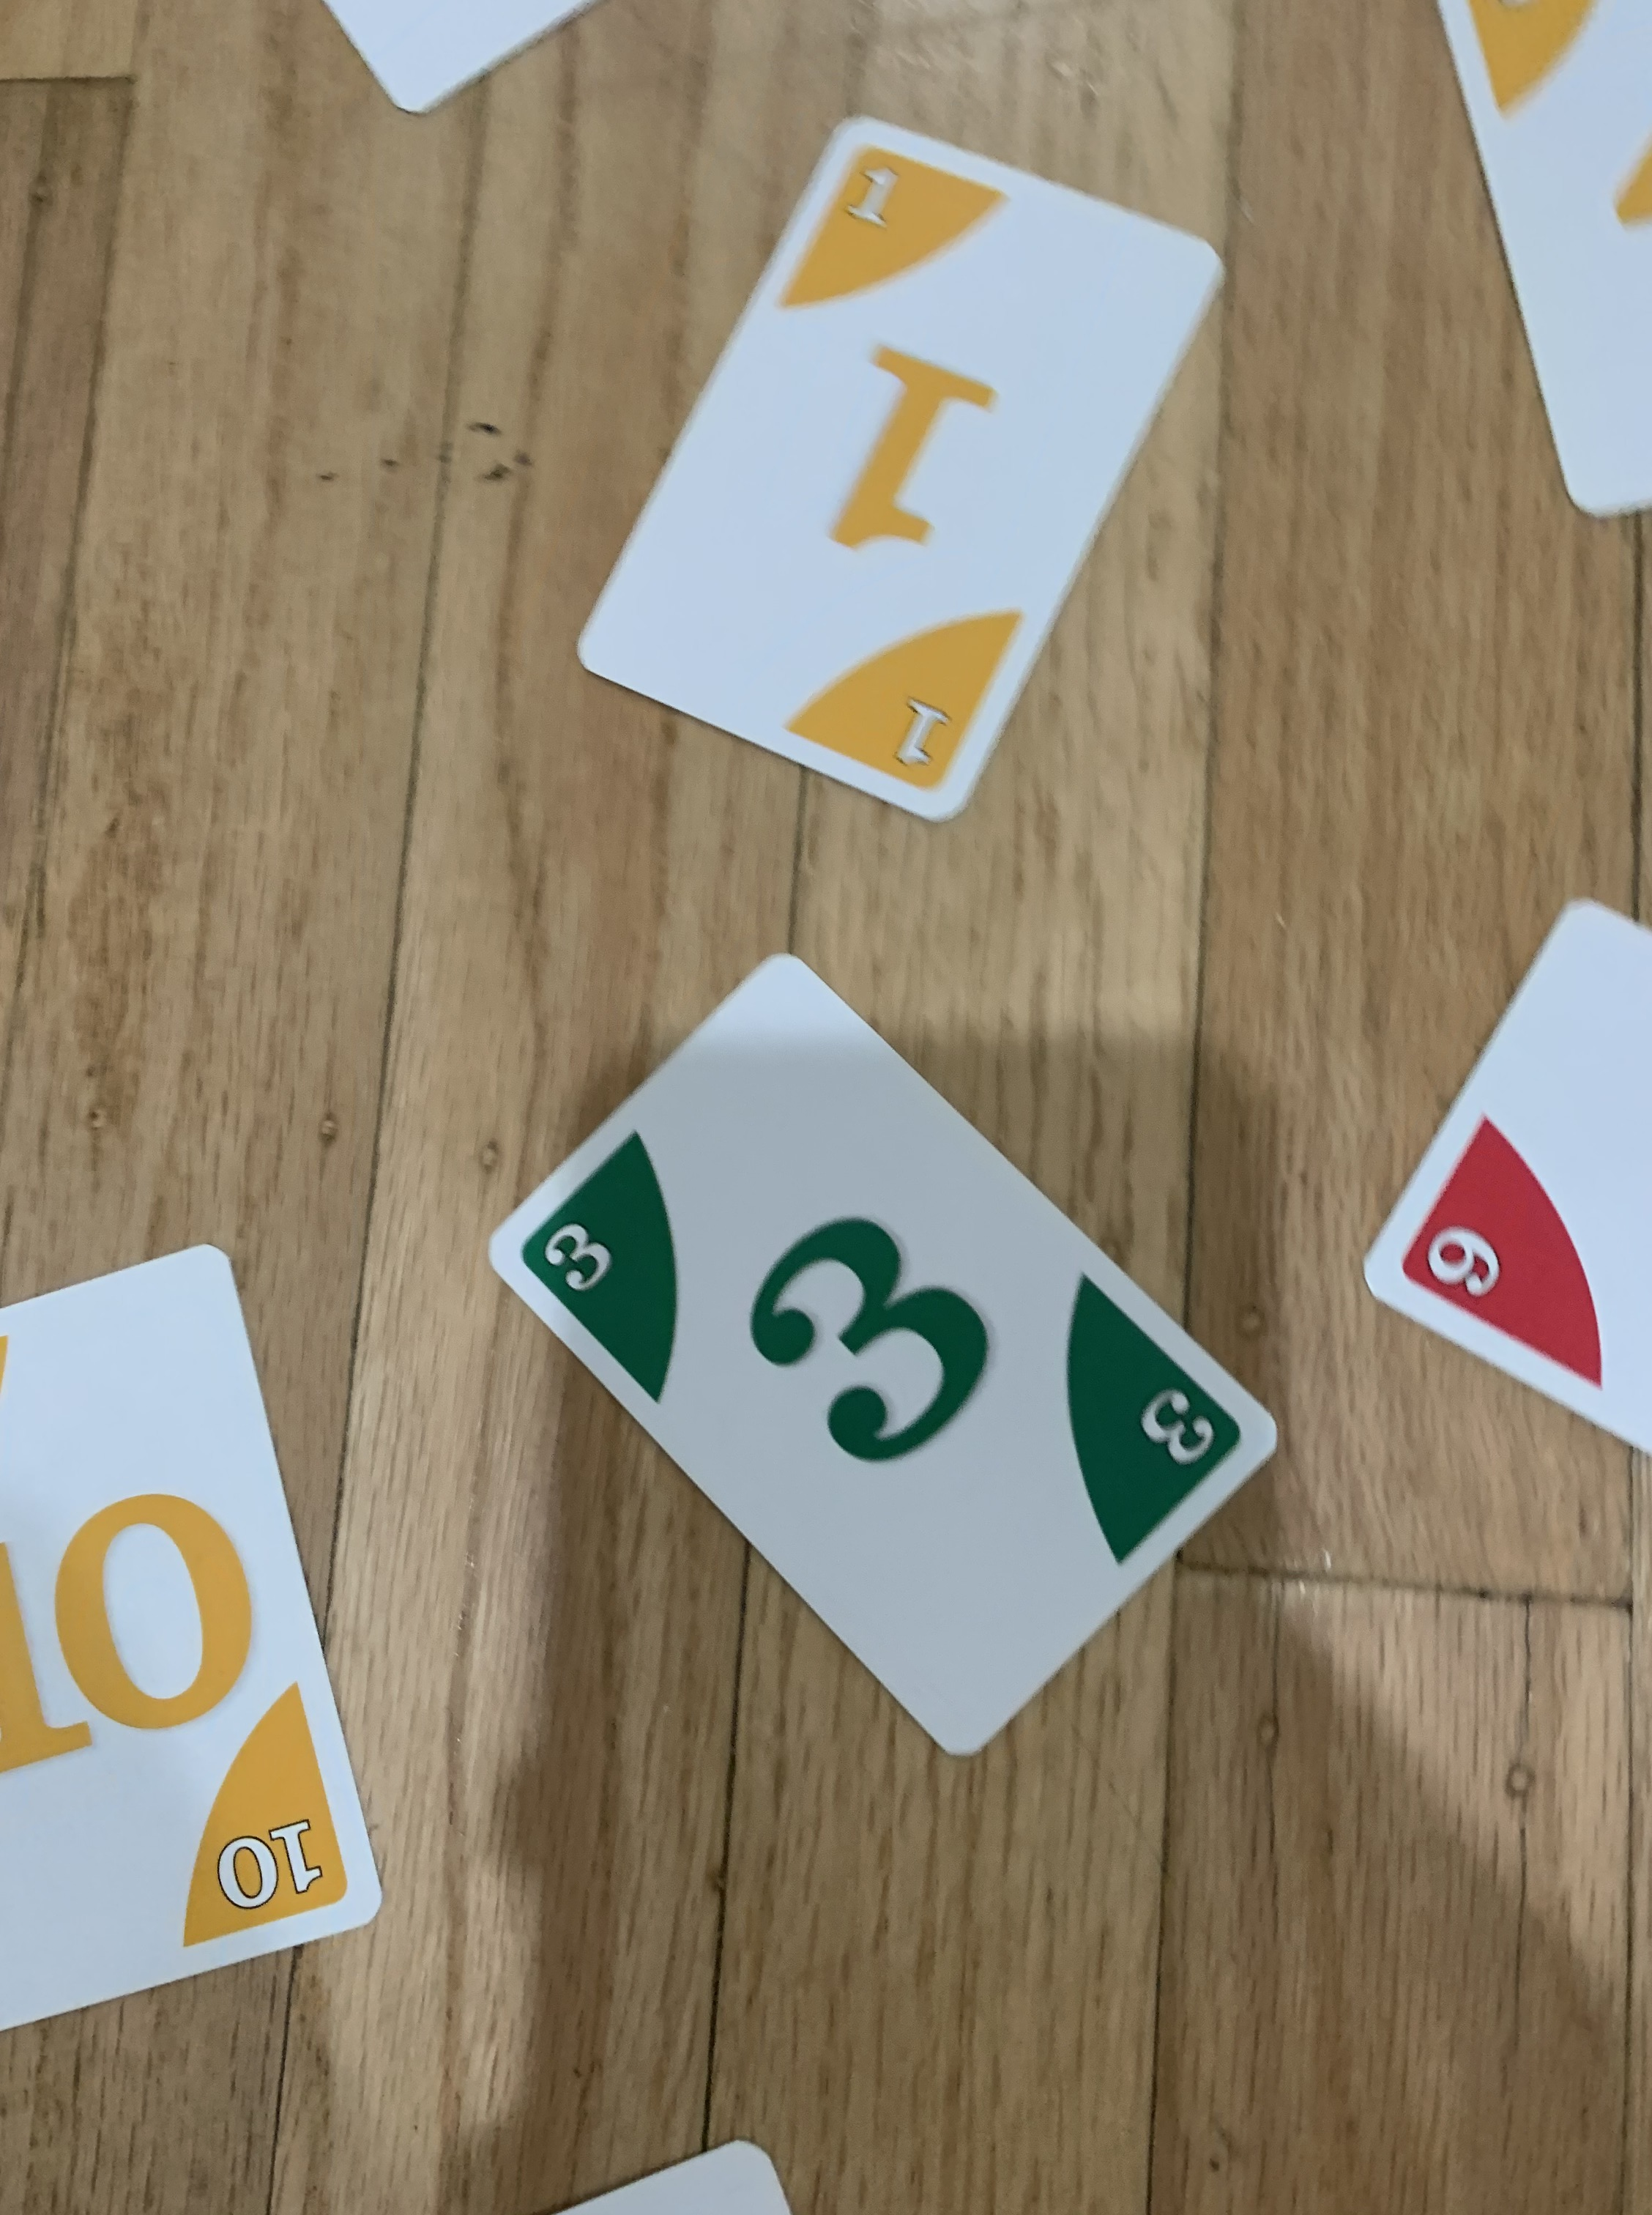one: (567, 122, 1229, 830)
three: (469, 950, 1293, 1771)
